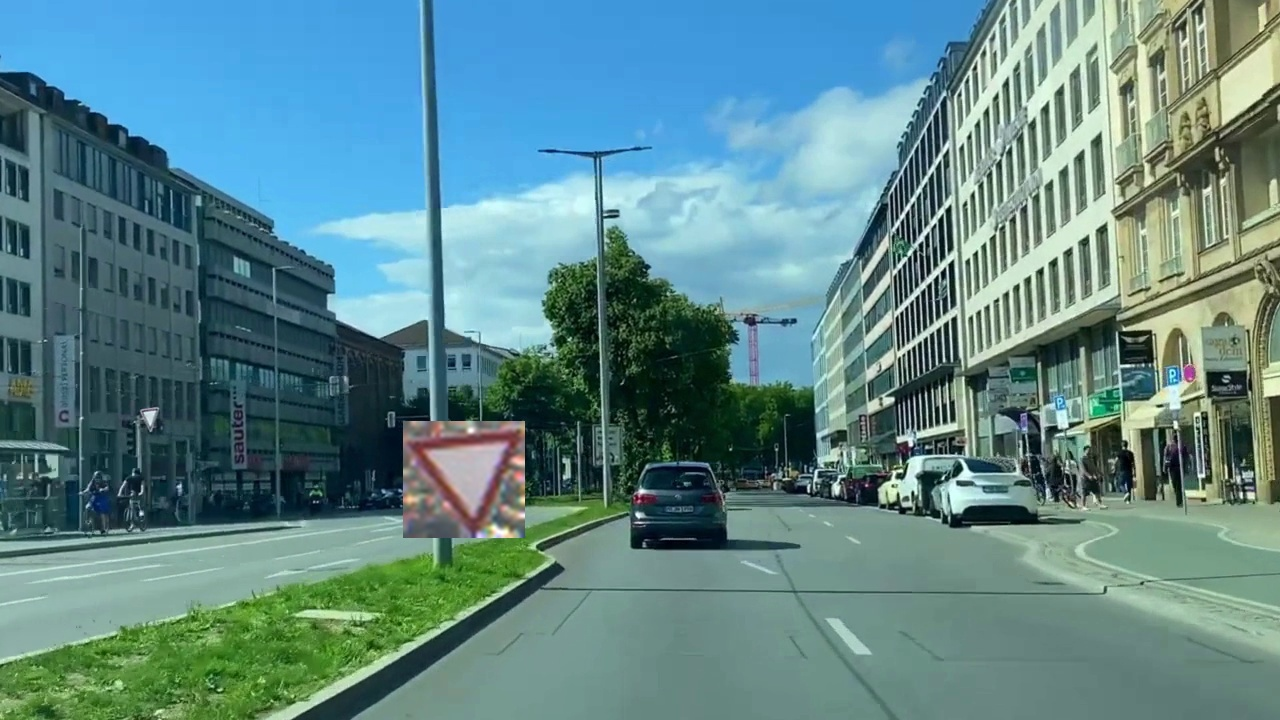Yield: (403, 421, 525, 538)
